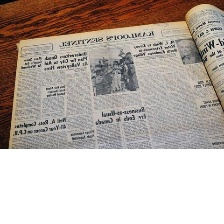news_paper: (6, 2, 223, 149)
